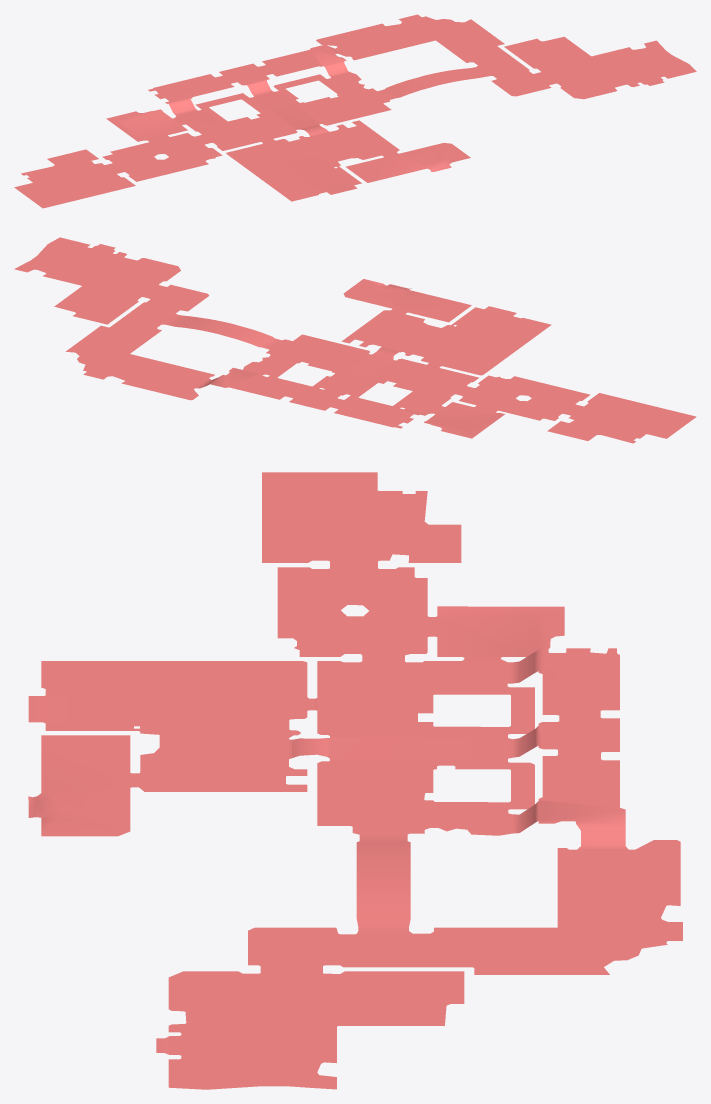
File: Prohibited_TEMPLE.fbx
The picture shows the model from 3 angles, top to bottom: view 1: azimuth 30°, elevation 25°; view 2: azimuth 150°, elevation 25°; view 3: azimuth 270°, elevation 25°; orthographic projection. The views are drawn at different scales.
Parts seen in each view (by area): view 1: Temple; view 2: Temple; view 3: Temple.
Boxes of the visible parts, <box> form: Temple: <box>14,14,696,208</box>; Temple: <box>14,237,696,443</box>; Temple: <box>28,472,682,1089</box>.
Bounding box in the file's own units: 103 × 1.29 × 46.28.
